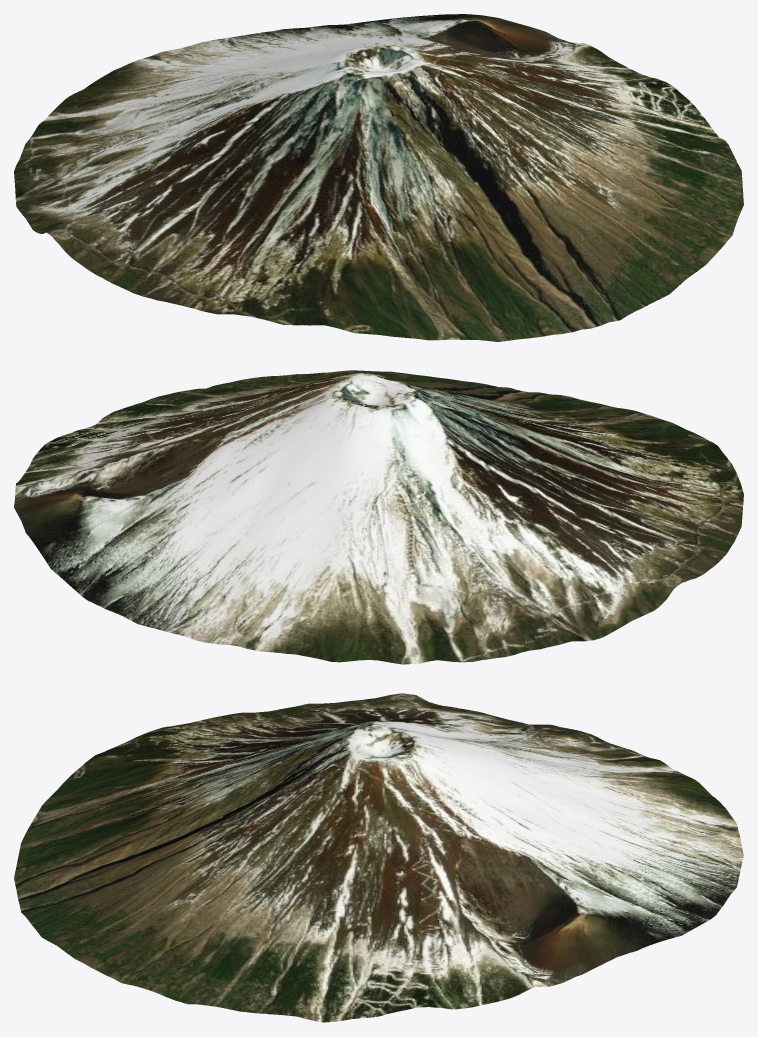
The model's file is MountFuji.glb.
3 views of the same model, one above another, from view 1: azimuth 30°, elevation 25°; view 2: azimuth 150°, elevation 25°; view 3: azimuth 270°, elevation 25° (orthographic).
Parts seen in each view (by area): view 1: Object_2; view 2: Object_2; view 3: Object_2.
Part boxes in pixels (box(x1,y1,x2,y2)): Object_2: box(14, 14, 743, 341); Object_2: box(14, 370, 743, 664); Object_2: box(14, 693, 743, 1022).
Size of the model in its own units: 57.67 by 12.39 by 57.81.
Materials: 1 (1 with a texture image).
